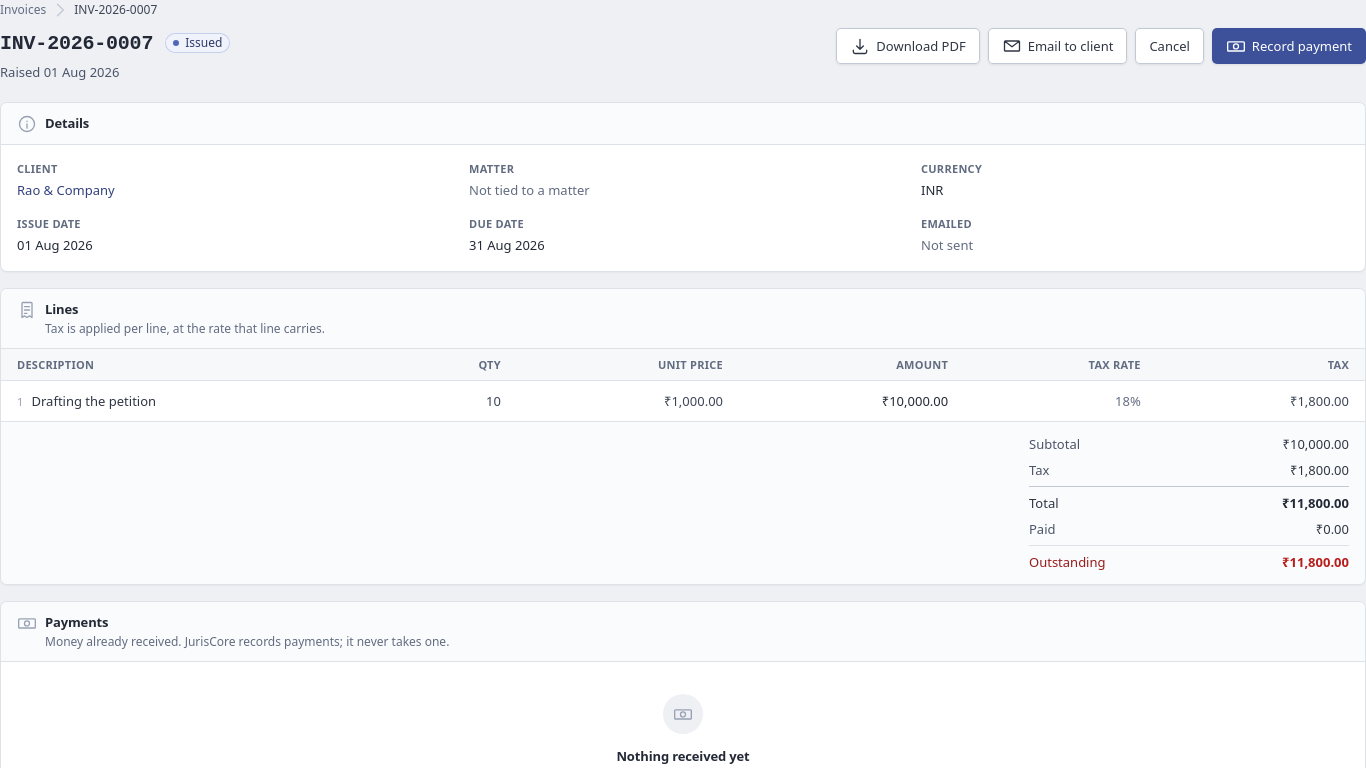
InvoiceDetailPage — emailing the client › sends the invoice to the address on the client record
This screenshot has width=1366, height=768.
Click the button "Email to client".
click(1058, 46)  # box [988, 28, 1127, 64]
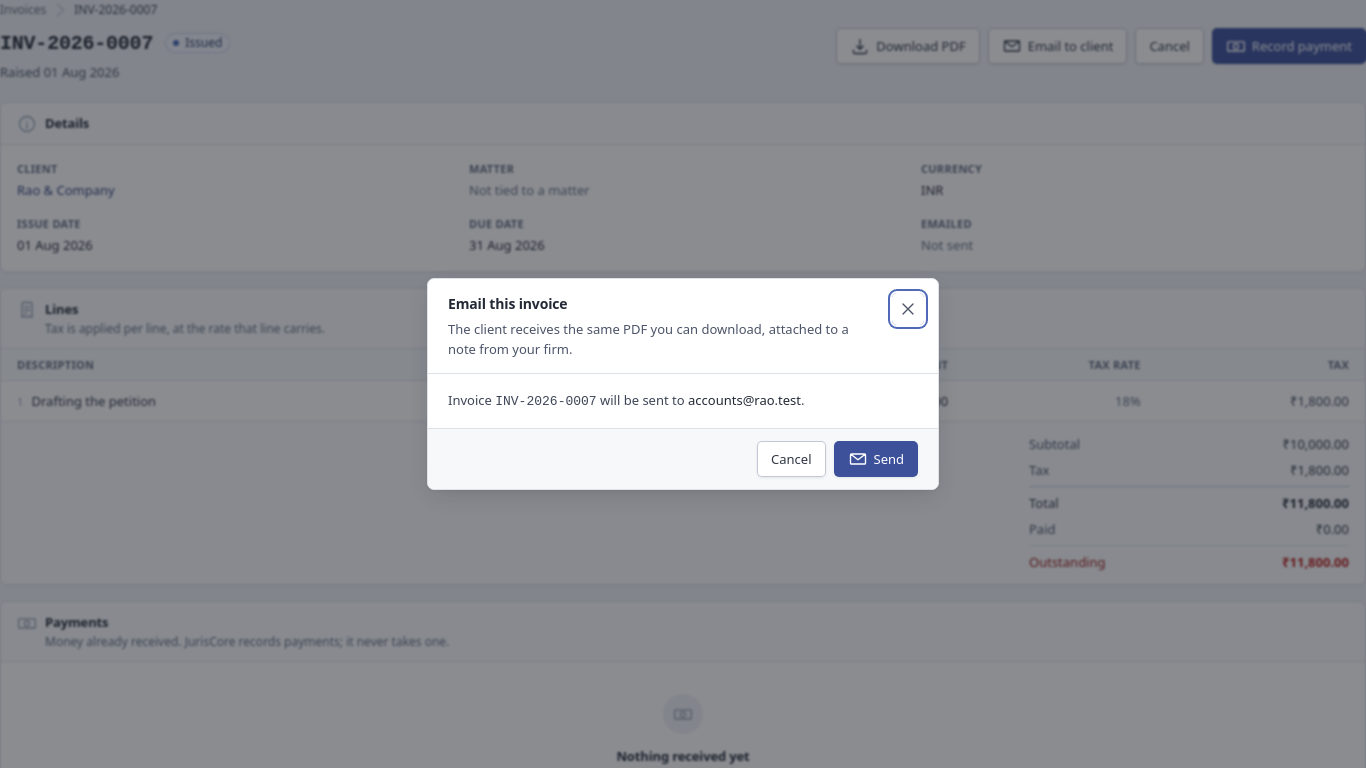
Check: the text "accounts@rao.test" is shown, box [688, 391, 801, 409]
Click the button "Send".
click(876, 459)  # box [834, 441, 918, 477]
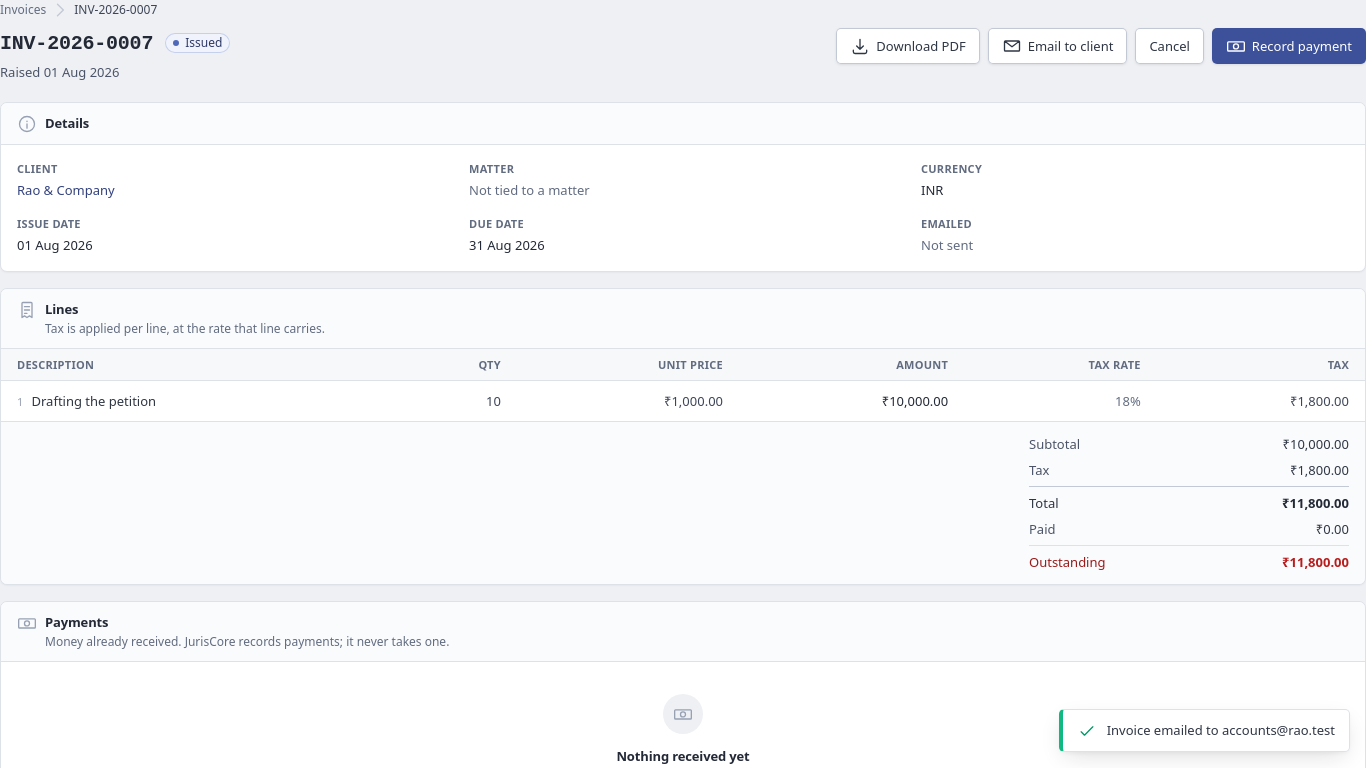
Check: the text "Invoice emailed to accounts@rao.test" is shown, box [1107, 720, 1335, 740]
